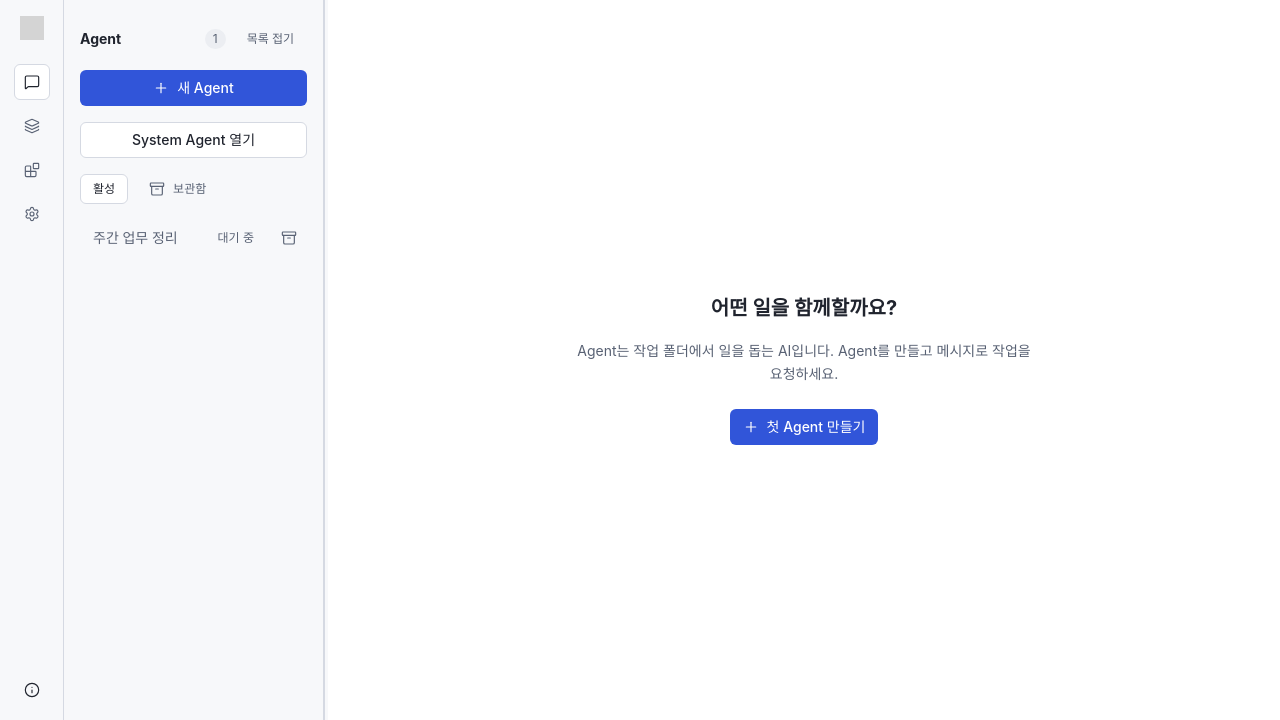
Test: System Agent entry › shows Provider readiness errors while retaining the selected Agent
Click the button "주간 업무 정리 대기 중" at [174, 238], box top-left (80, 220), bottom-right (267, 256)
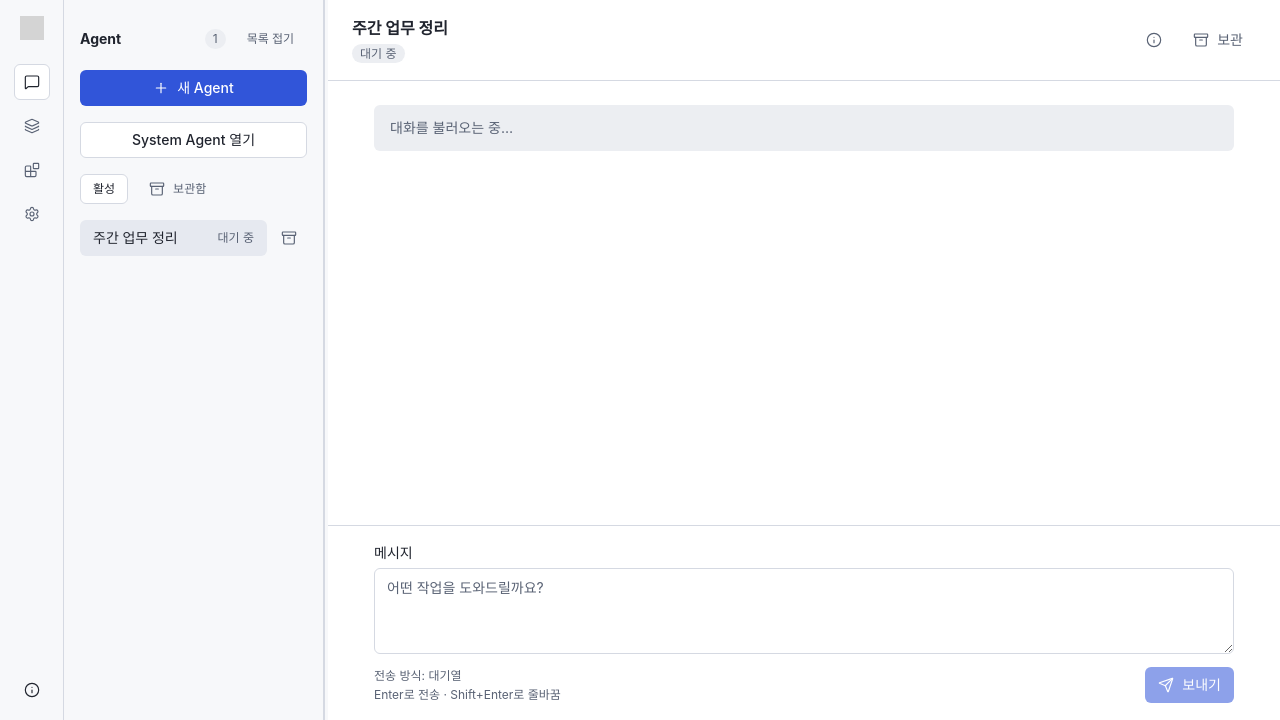
Expected: the text box labelled "메시지" is shown, top-left (374, 568), bottom-right (1234, 654)
Click the button "System Agent 열기" at [194, 140], box top-left (80, 122), bottom-right (307, 158)
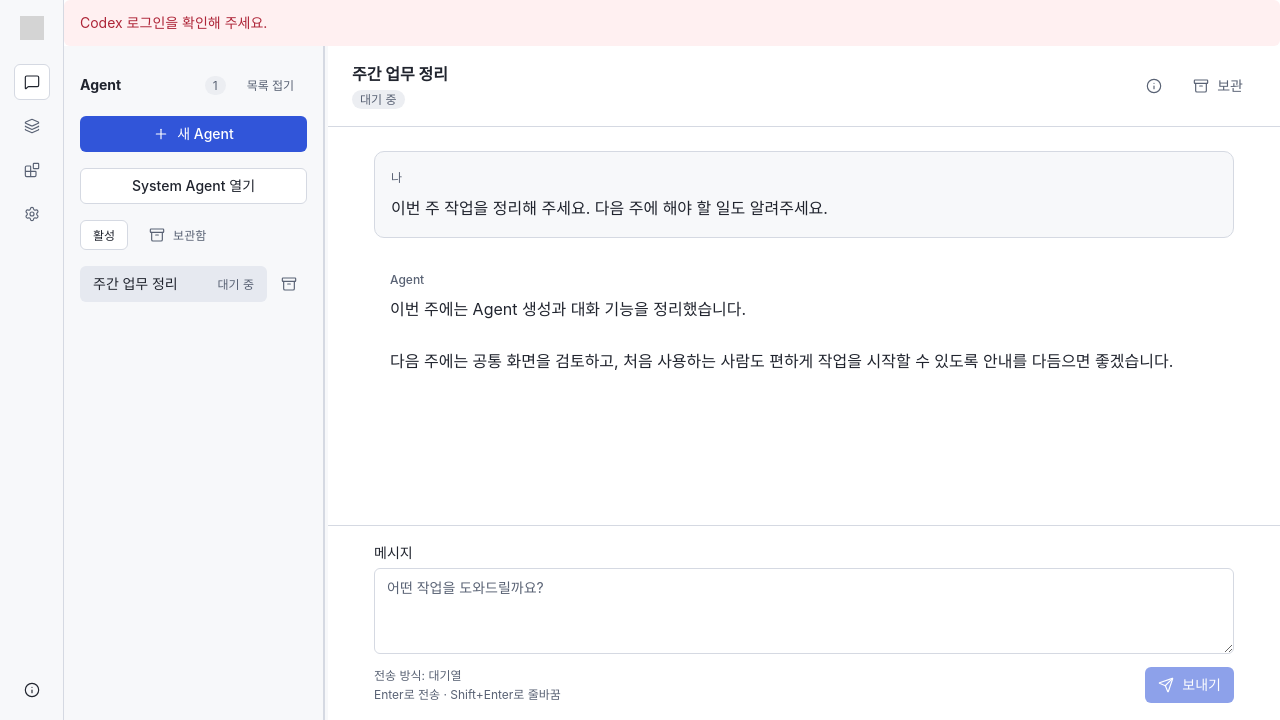
Expected: the heading "주간 업무 정리" is shown, top-left (352, 62), bottom-right (448, 88)
Expected: the text "Codex 로그인을 확인해 주세요." is shown, top-left (64, 0), bottom-right (1279, 46)
